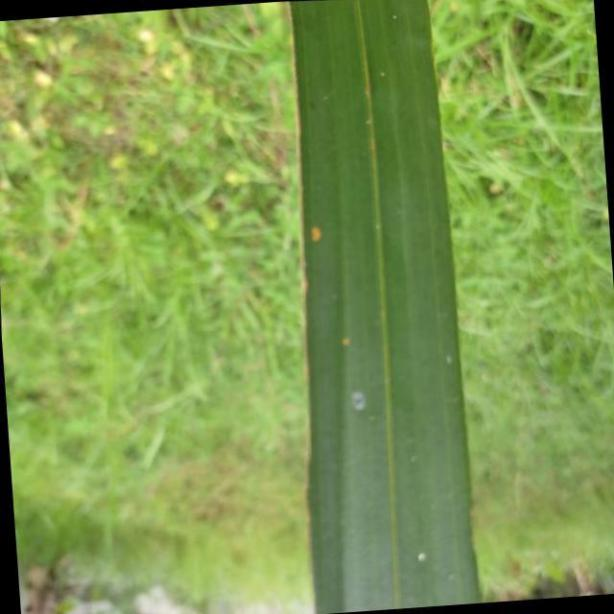Kalium: (294, 0, 483, 614)
